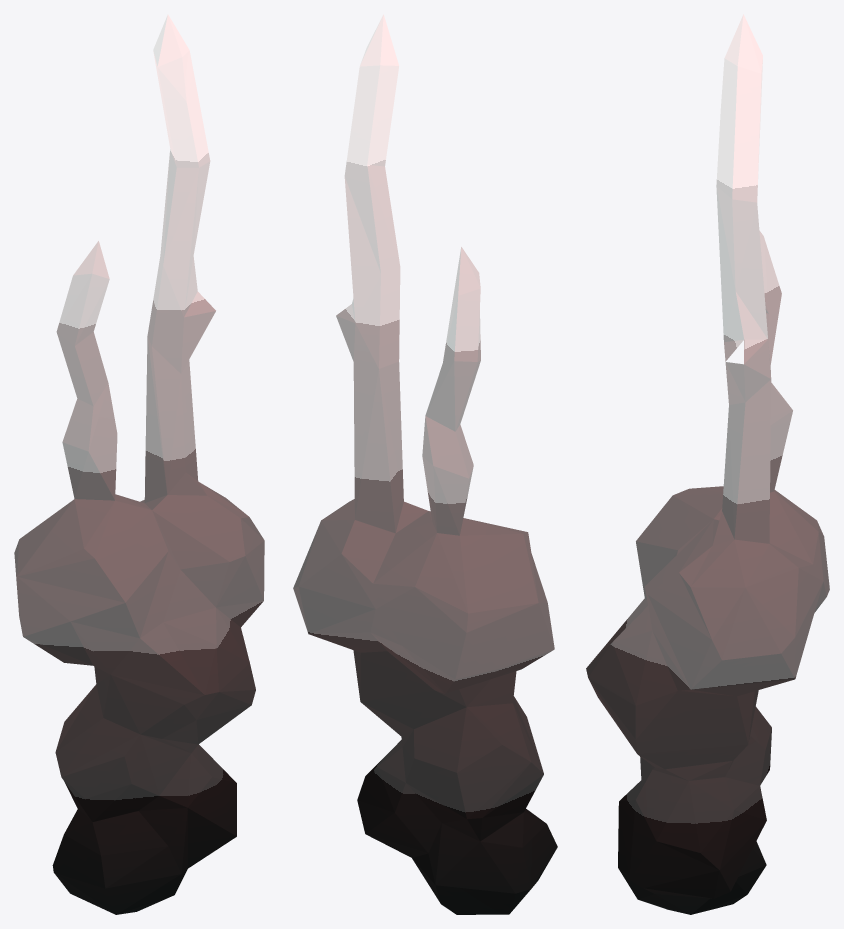
File: entity108216.glb
The picture shows the model from 3 angles, left to right: view 1: azimuth 30°, elevation 25°; view 2: azimuth 150°, elevation 25°; view 3: azimuth 270°, elevation 25°; orthographic projection. The views are drawn at different scales.
Parts seen in each view (by area): view 1: node_SM_Env_Plant_Coral_03 (48); view 2: node_SM_Env_Plant_Coral_03 (48); view 3: node_SM_Env_Plant_Coral_03 (48).
Boxes of the visible parts, box(x1,y1,x2,y2) form: node_SM_Env_Plant_Coral_03 (48): box(14, 14, 264, 914); node_SM_Env_Plant_Coral_03 (48): box(293, 14, 557, 914); node_SM_Env_Plant_Coral_03 (48): box(586, 14, 829, 914).
Bounding box in the file's own units: 1.3 × 4.49 × 1.07.
Materials: 1 (1 with a texture image).
